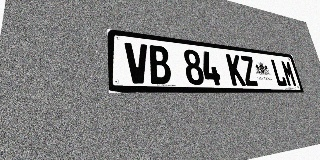4: (200, 51, 222, 85)
8: (182, 49, 205, 85)
B: (148, 45, 172, 84)
K: (226, 54, 246, 86)
L: (270, 59, 288, 87)
M: (280, 60, 297, 87)
V: (124, 42, 150, 84)
Z: (239, 55, 259, 86)
